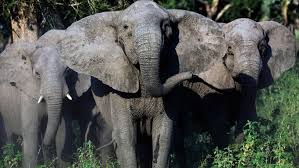Elephant: (57, 2, 228, 165)
